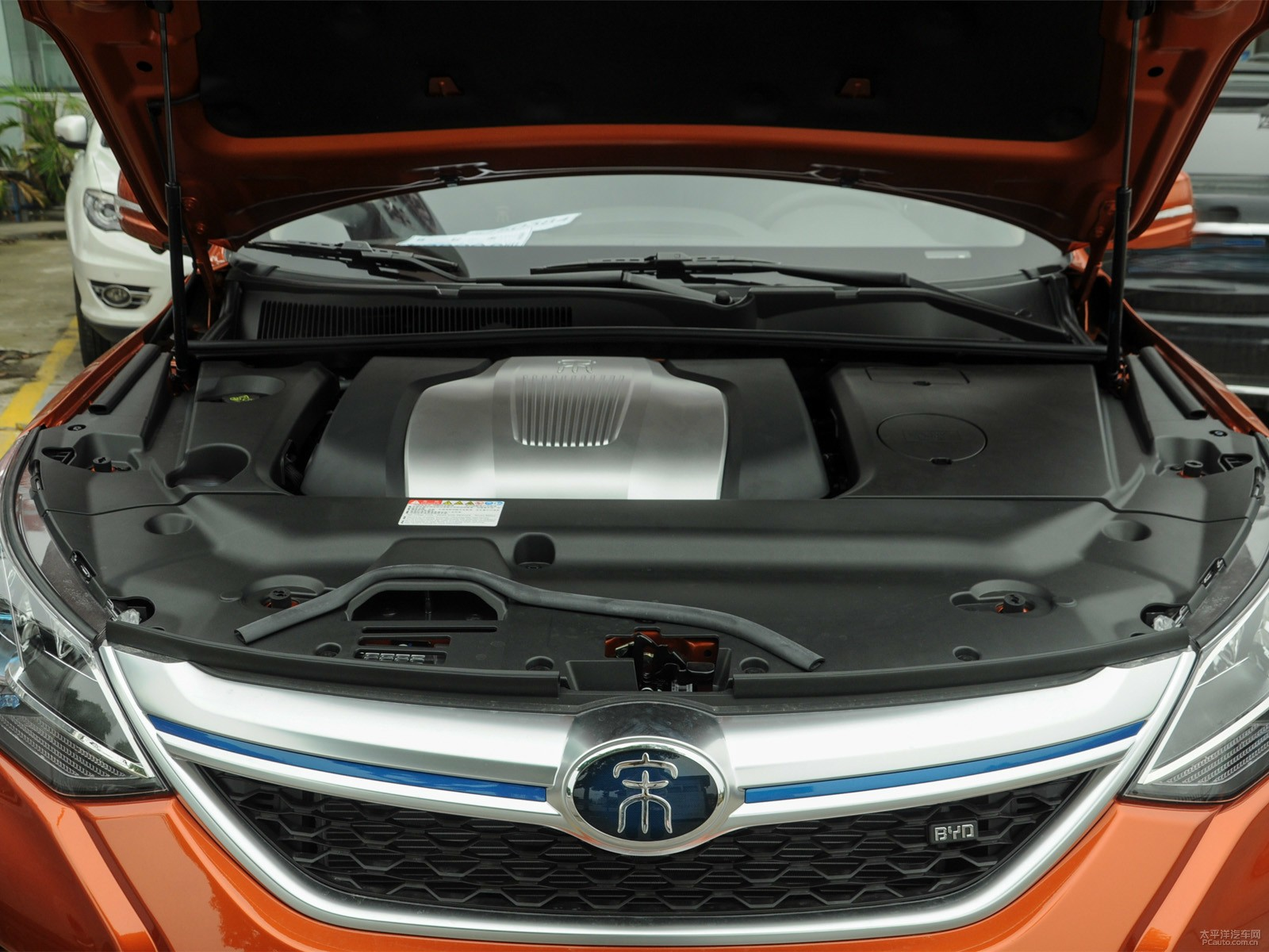BYD Song: (574, 747, 718, 842)
